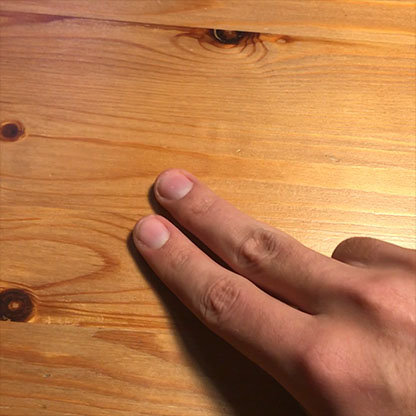fingertip: (124, 208, 176, 263), (154, 158, 204, 213)
